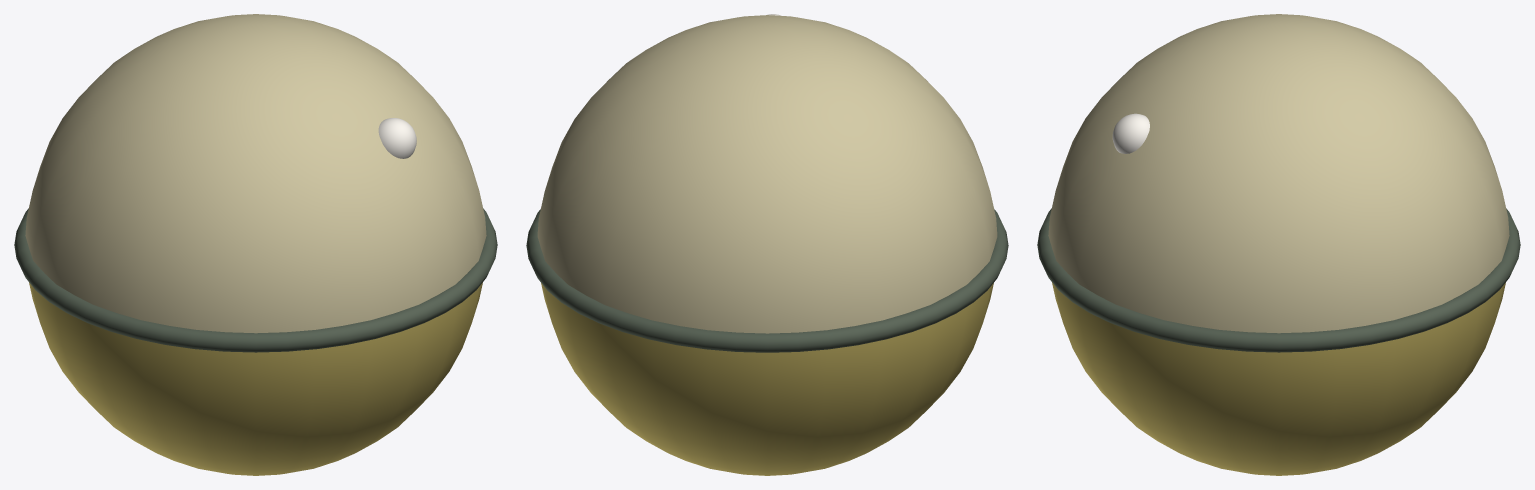
Rendered from hopper-ball-5.glb.
3 renders of one model, left to right at view 1: azimuth 30°, elevation 25°; view 2: azimuth 150°, elevation 25°; view 3: azimuth 270°, elevation 25°, orthographic.
Visible parts, largest first — view 1: HopperBall5_Batch0, HopperBall5_Batch1; view 2: HopperBall5_Batch0, HopperBall5_Batch1; view 3: HopperBall5_Batch0, HopperBall5_Batch1.
Part boxes in pixels (x1,y1,x2,y2): HopperBall5_Batch0: [25, 14, 486, 475]; HopperBall5_Batch1: [14, 118, 497, 352]; HopperBall5_Batch0: [537, 15, 997, 475]; HopperBall5_Batch1: [526, 14, 1008, 352]; HopperBall5_Batch0: [1048, 14, 1509, 475]; HopperBall5_Batch1: [1037, 113, 1520, 352].
Size of the model in its own units: 0.037 by 0.0354 by 0.037.
